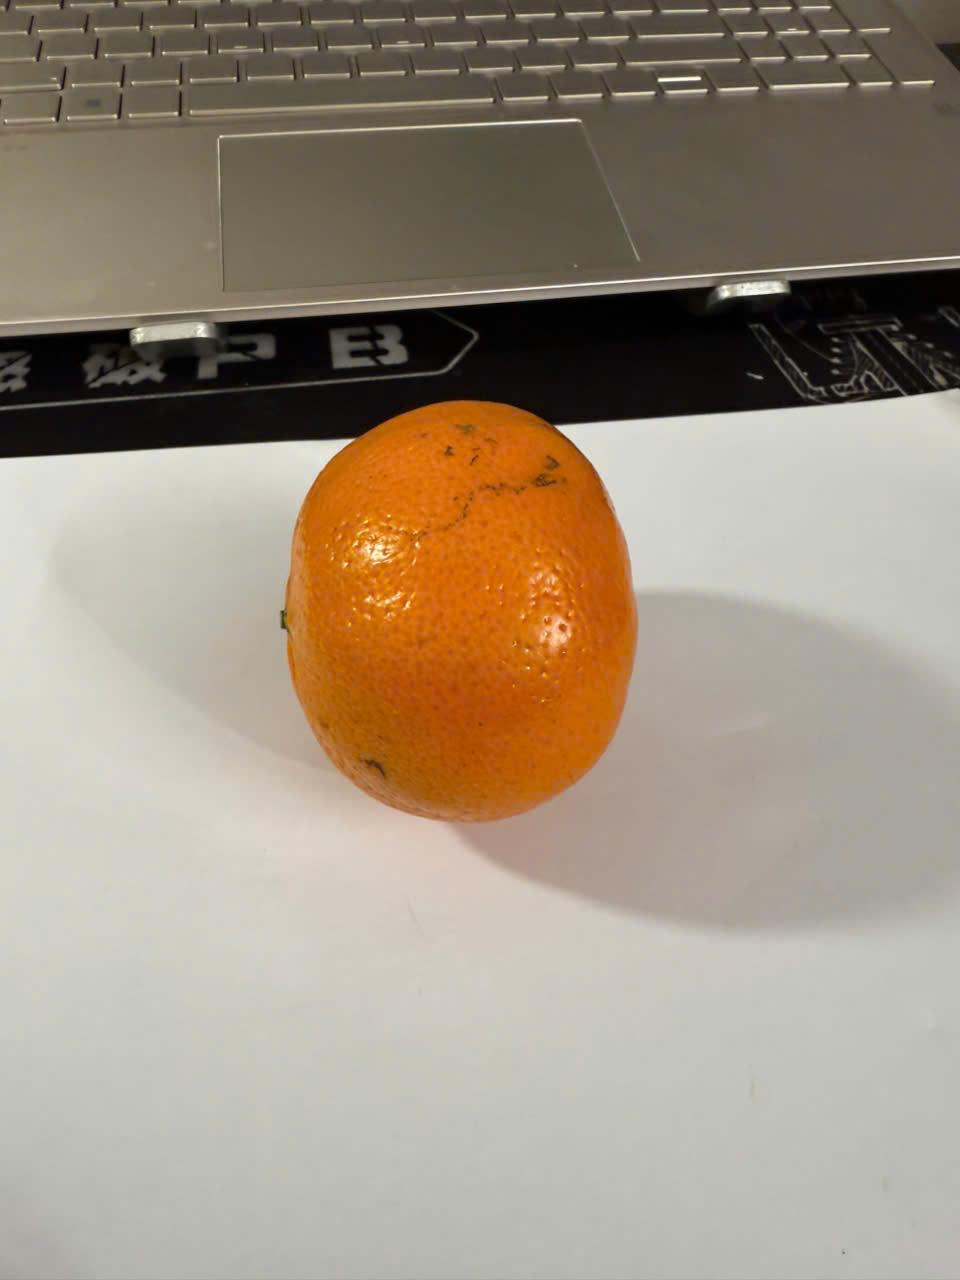orange: (278, 385, 668, 834)
